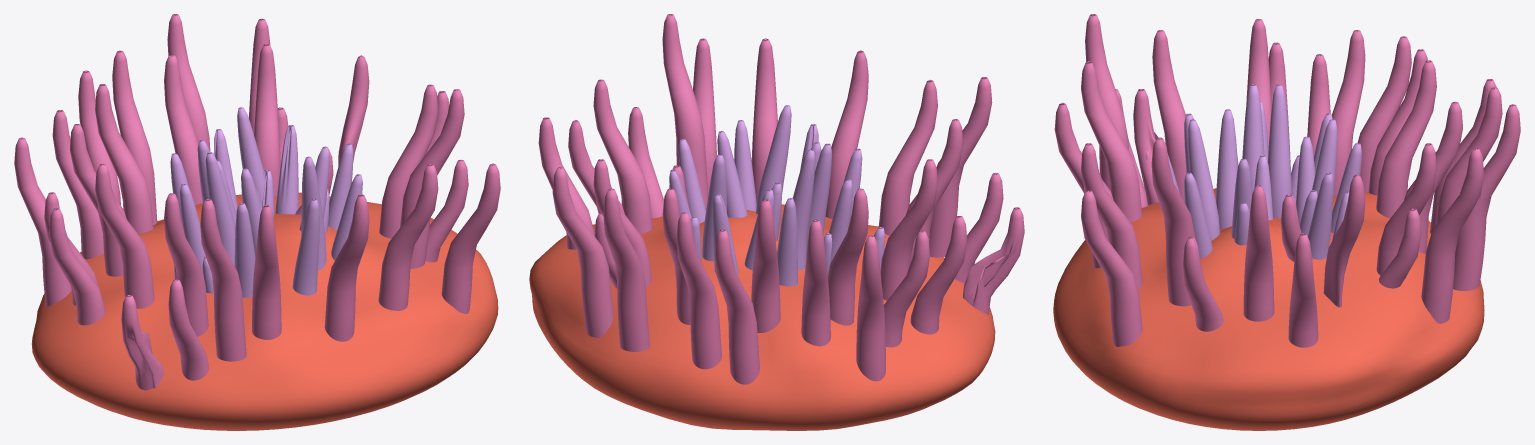
File: anemona.fbx
The picture shows the model from 3 angles, left to right: view 1: azimuth 30°, elevation 25°; view 2: azimuth 150°, elevation 25°; view 3: azimuth 270°, elevation 25°; orthographic projection. The views are drawn at different scales.
Visible parts, largest first — view 1: Tentaculo_exterior.027; view 2: Tentaculo_exterior.027; view 3: Tentaculo_exterior.027.
Boxes of the visible parts, x1=… form: Tentaculo_exterior.027: x1=14, y1=14, x2=500, y2=430; Tentaculo_exterior.027: x1=529, y1=14, x2=1024, y2=430; Tentaculo_exterior.027: x1=1053, y1=14, x2=1520, y2=430.
Bounding box in the file's own units: 289 × 194 × 269.
